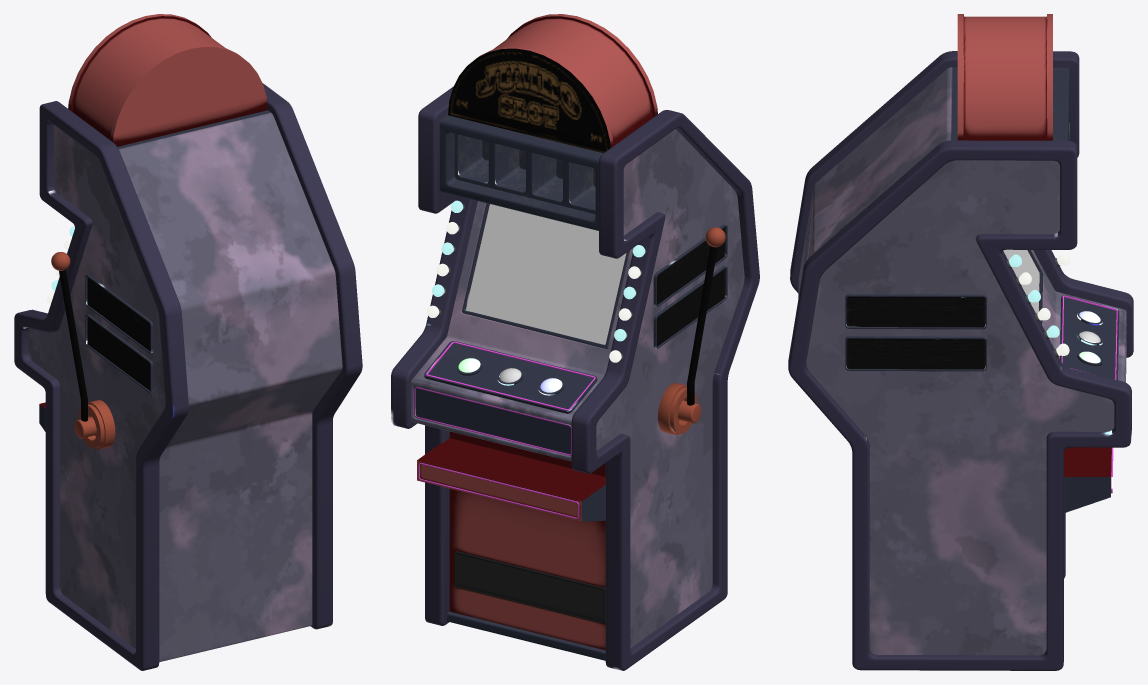
File: slotMachineSplitMeshBtn.glb
3 views of the same model, side by side, from view 1: azimuth 30°, elevation 25°; view 2: azimuth 150°, elevation 25°; view 3: azimuth 270°, elevation 25° (orthographic). The views are drawn at different scales.
Parts seen in each view (by area): view 1: Sphere.001; view 2: Sphere.001, Sphere.002; view 3: Sphere.001, Sphere.002.
Part boxes in pixels (x1,y1,x2,y2): Sphere.001: (14,14,362,670); Sphere.001: (391,14,759,670); Sphere.002: (466,204,626,344); Sphere.001: (788,14,1133,670); Sphere.002: (1003,249,1039,313).
Size of the model in its own units: 1.2 by 2.77 by 1.45.
Materials: 1 (1 with a texture image).
